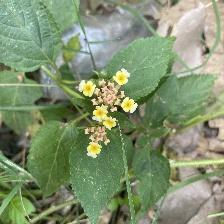common lanthana: (80, 62, 140, 160)
